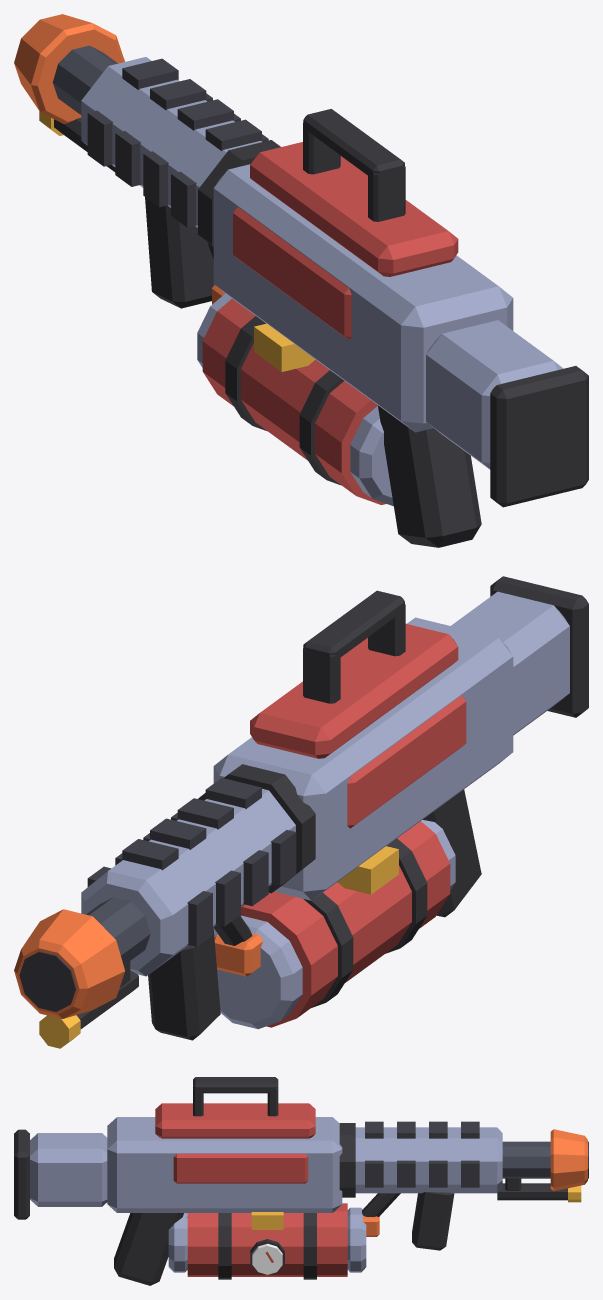
The model's file is blaster-flame.glb.
3 renders of one model, top to bottom at view 1: azimuth 30°, elevation 25°; view 2: azimuth 150°, elevation 25°; view 3: azimuth 270°, elevation 25°, orthographic. The views are drawn at different scales.
Parts seen in each view (by area): view 1: blaster-flame; view 2: blaster-flame; view 3: blaster-flame.
Boxes of the visible parts, x1,y1,x2,y2 form: blaster-flame: (14, 14, 588, 547); blaster-flame: (14, 576, 588, 1048); blaster-flame: (14, 1077, 588, 1285).
Size of the model in its own units: 0.169 by 0.4149 by 1.08.
1 material, 1 textured.
